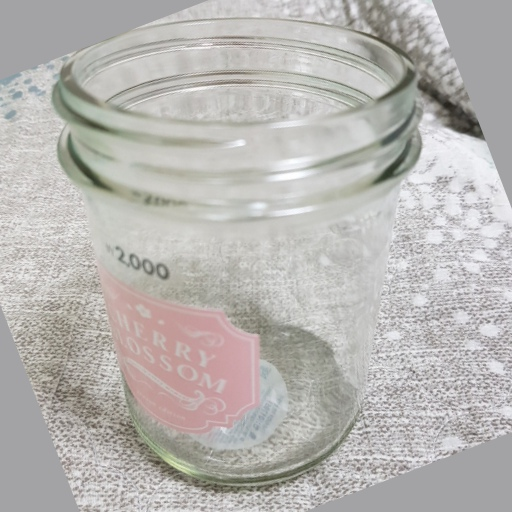Glass_5: (54, 18, 424, 491)
